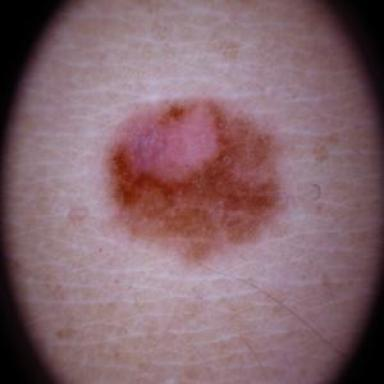Melanoma: (109, 98, 280, 259)
